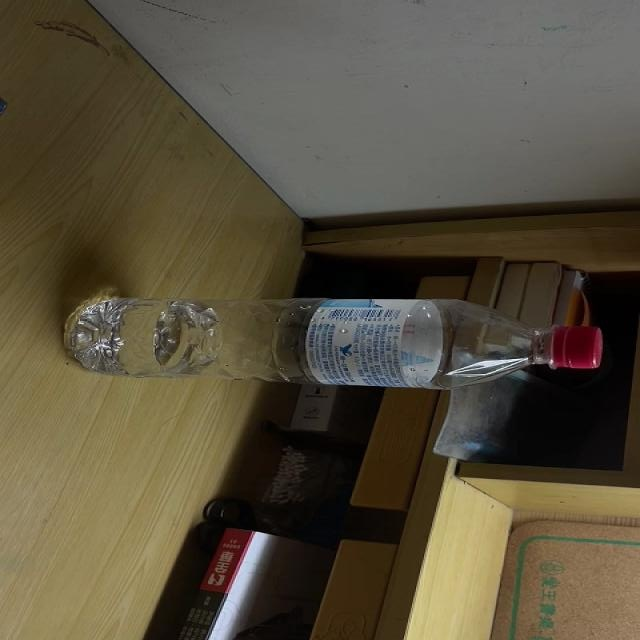Water: (60, 296, 601, 388)
